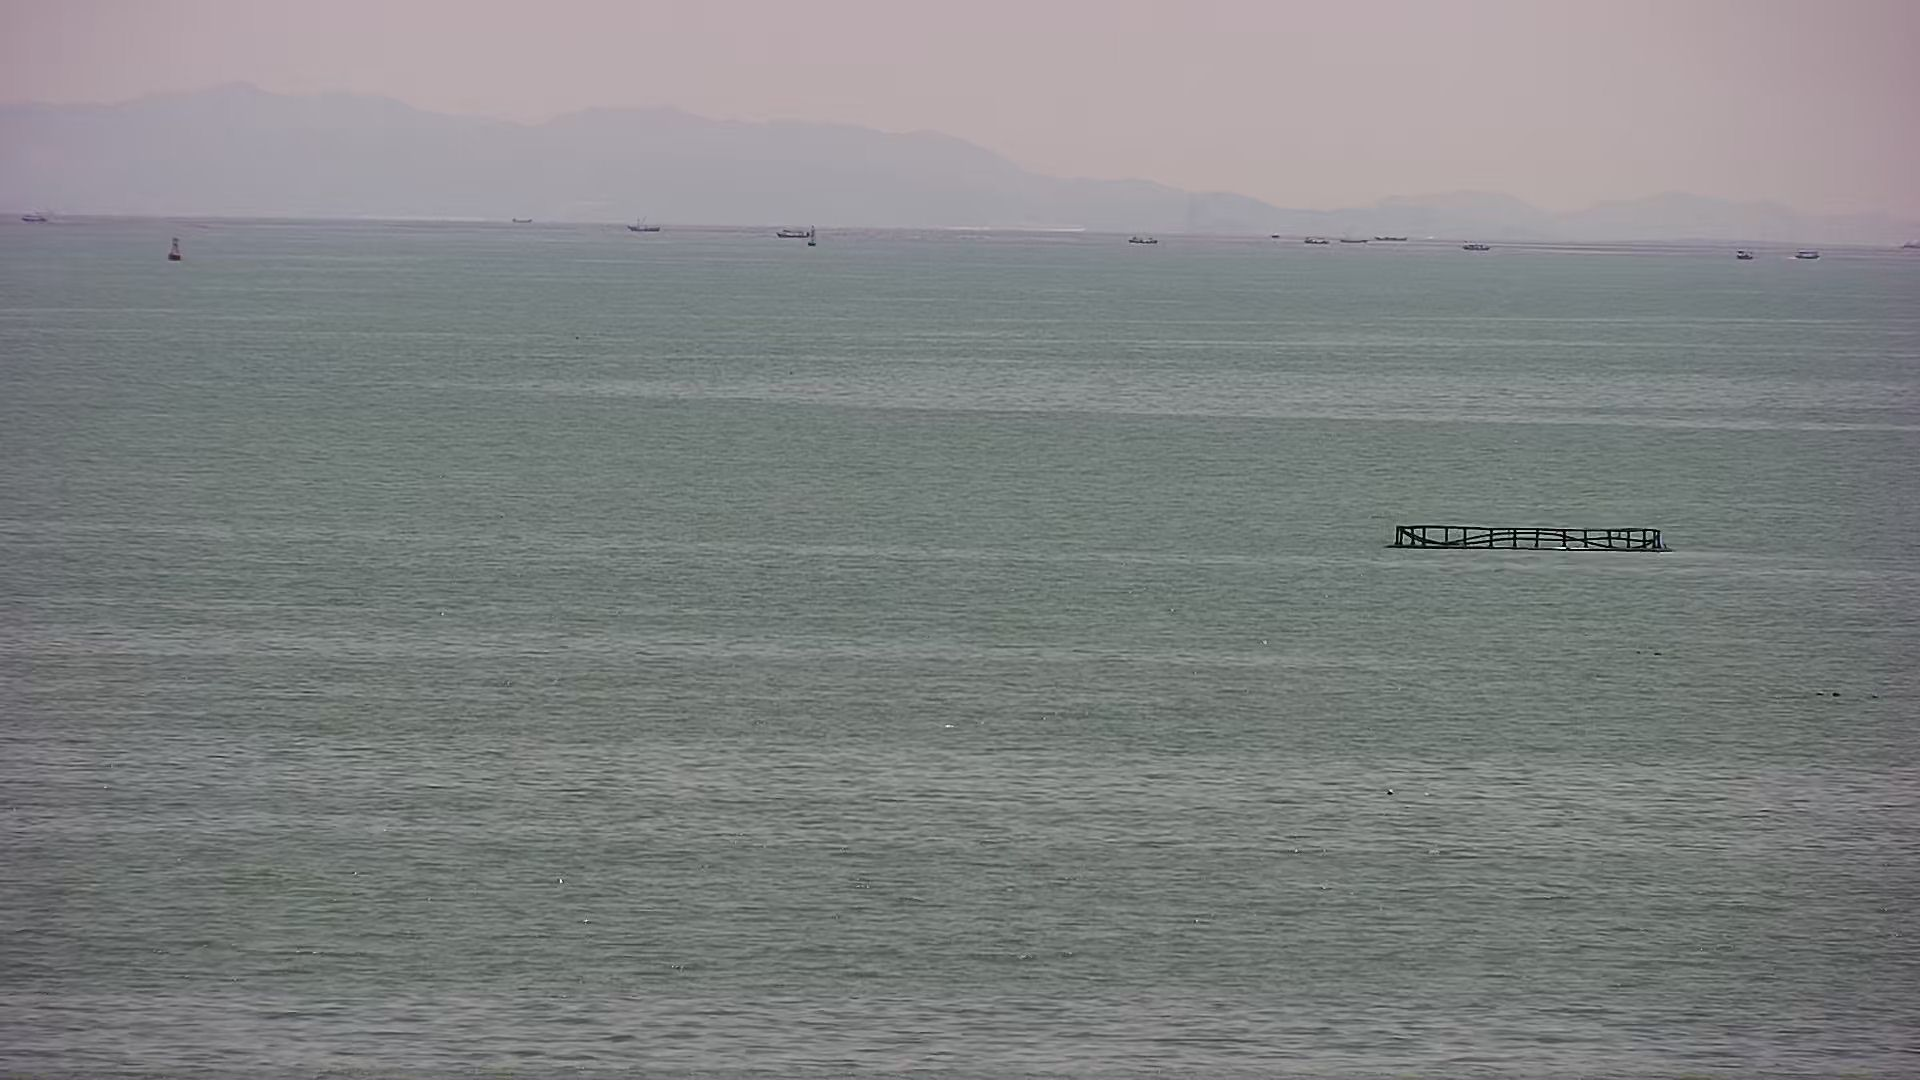platform: (1391, 516, 1673, 558)
